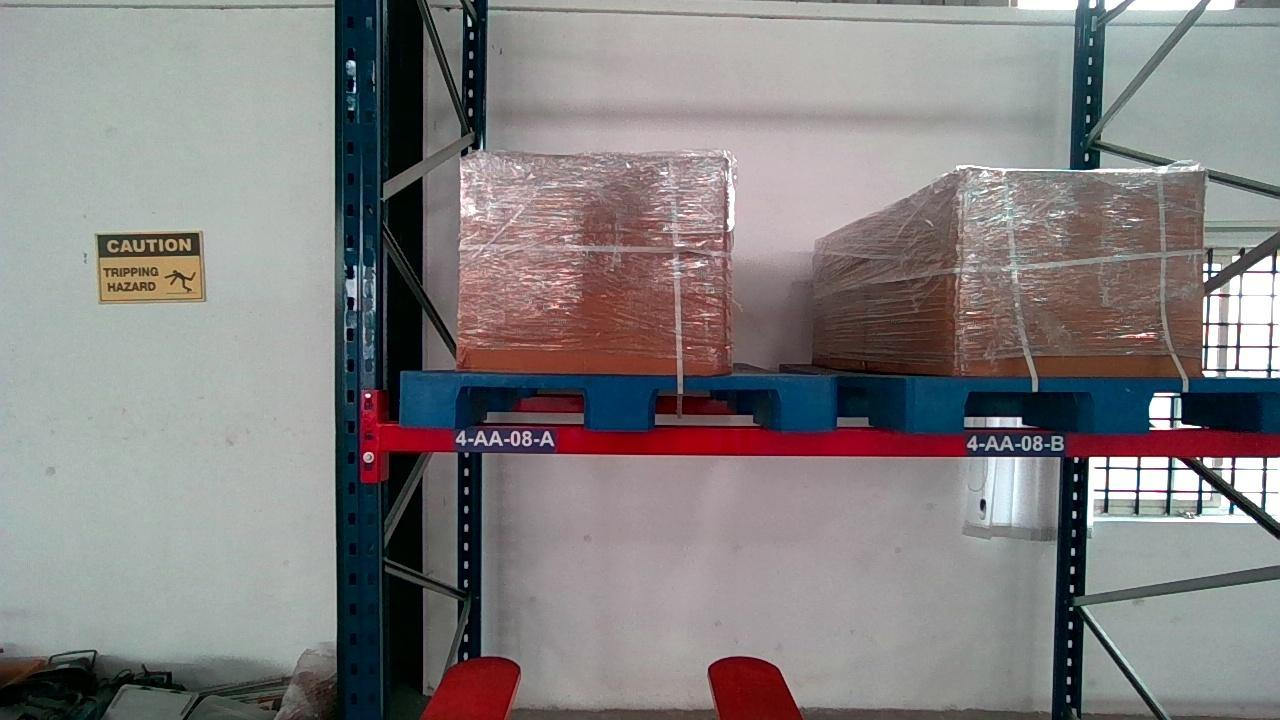h_rack: (383, 424, 1279, 457)
small_pallet: (399, 372, 837, 429), (912, 376, 1280, 431)
